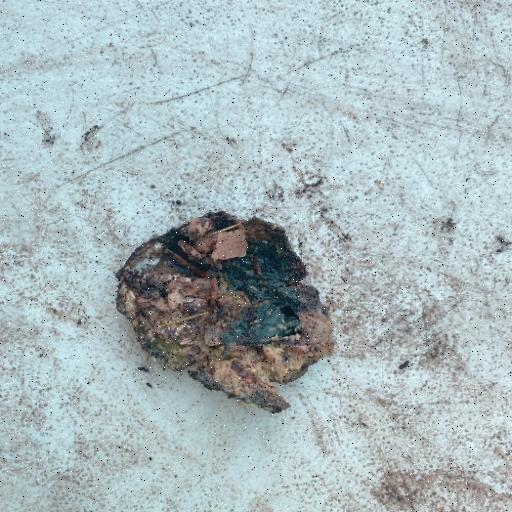Waste: (112, 209, 336, 415)
